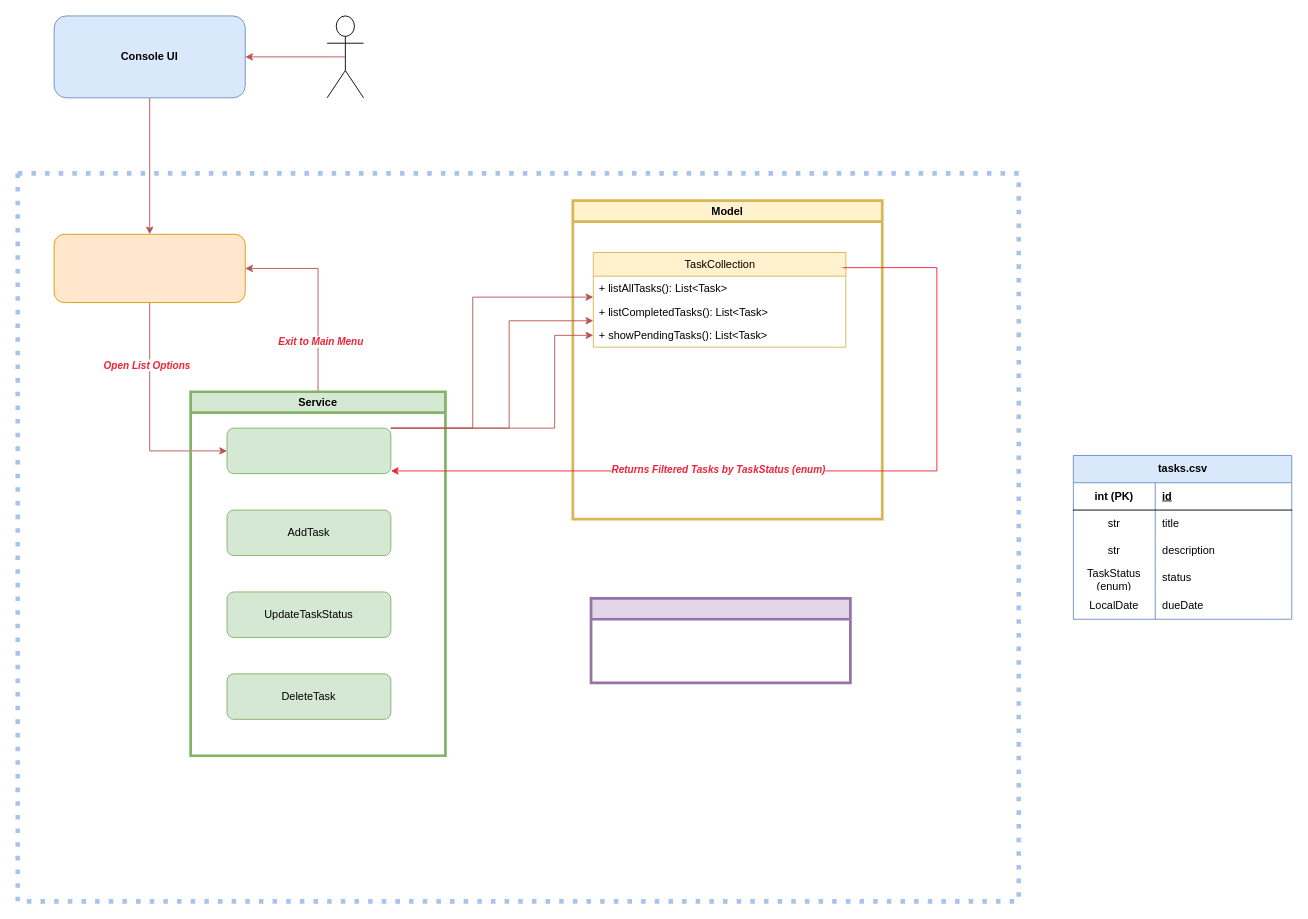
The diagram is 1308 pixels wide and 919 high, and some of its shapes have lost their labels. Here are the shapes that lost their labels. From the top down, the centre of each, then its label:
point (345, 56): User
point (149, 268): Menu
point (308, 450): ListTasks
point (720, 640): Persistence
